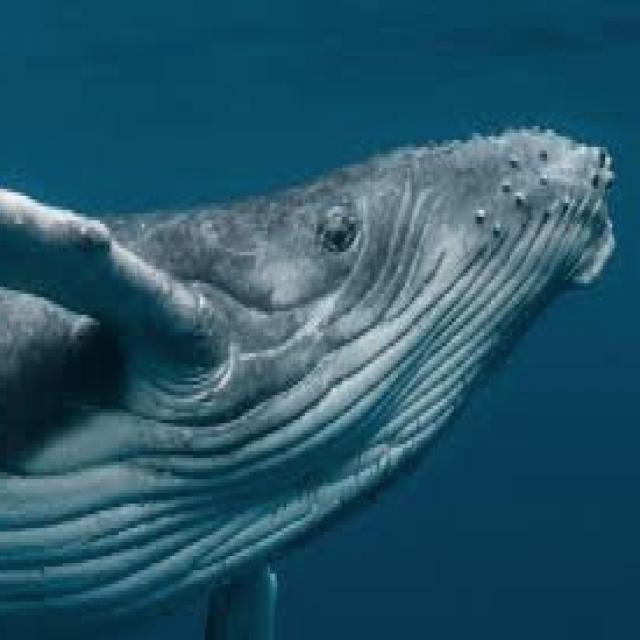whale: (2, 129, 614, 637)
